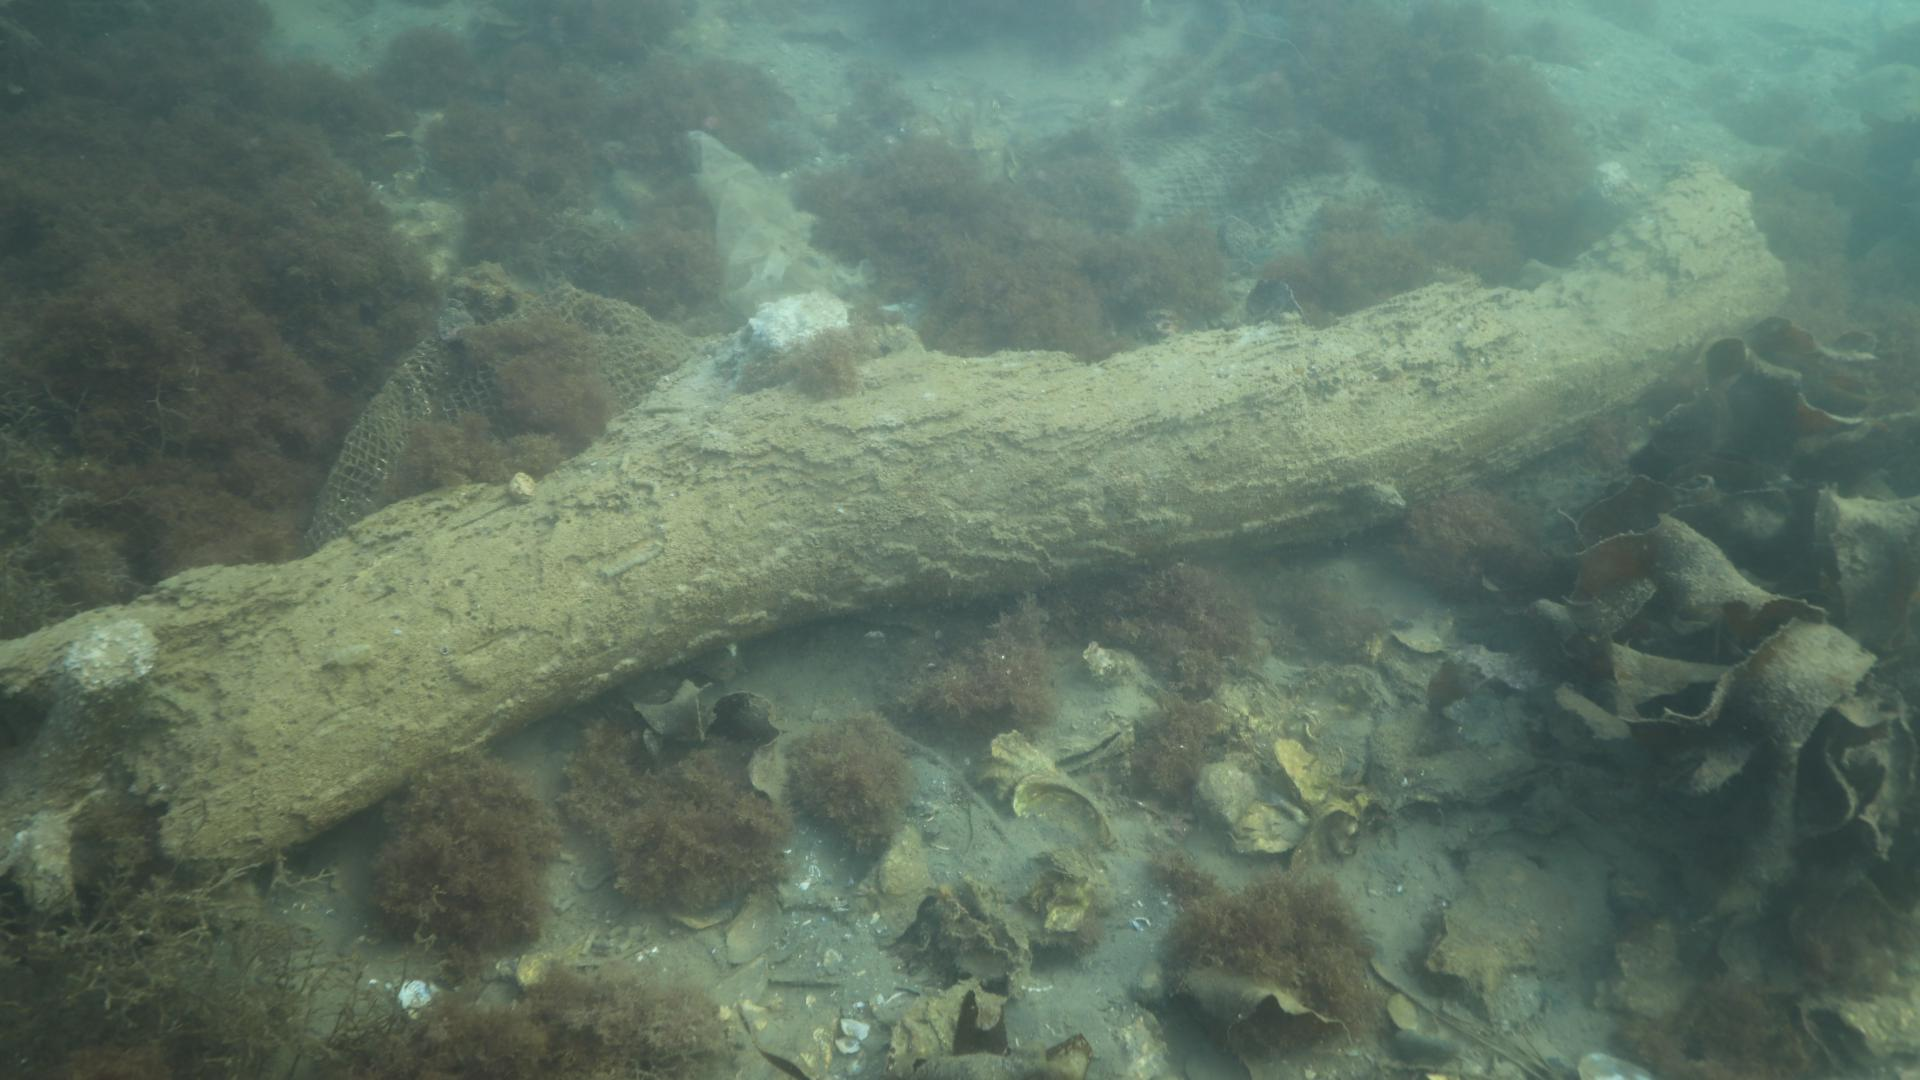fish net: (1109, 135, 1399, 239)
wood: (0, 162, 1788, 881)
